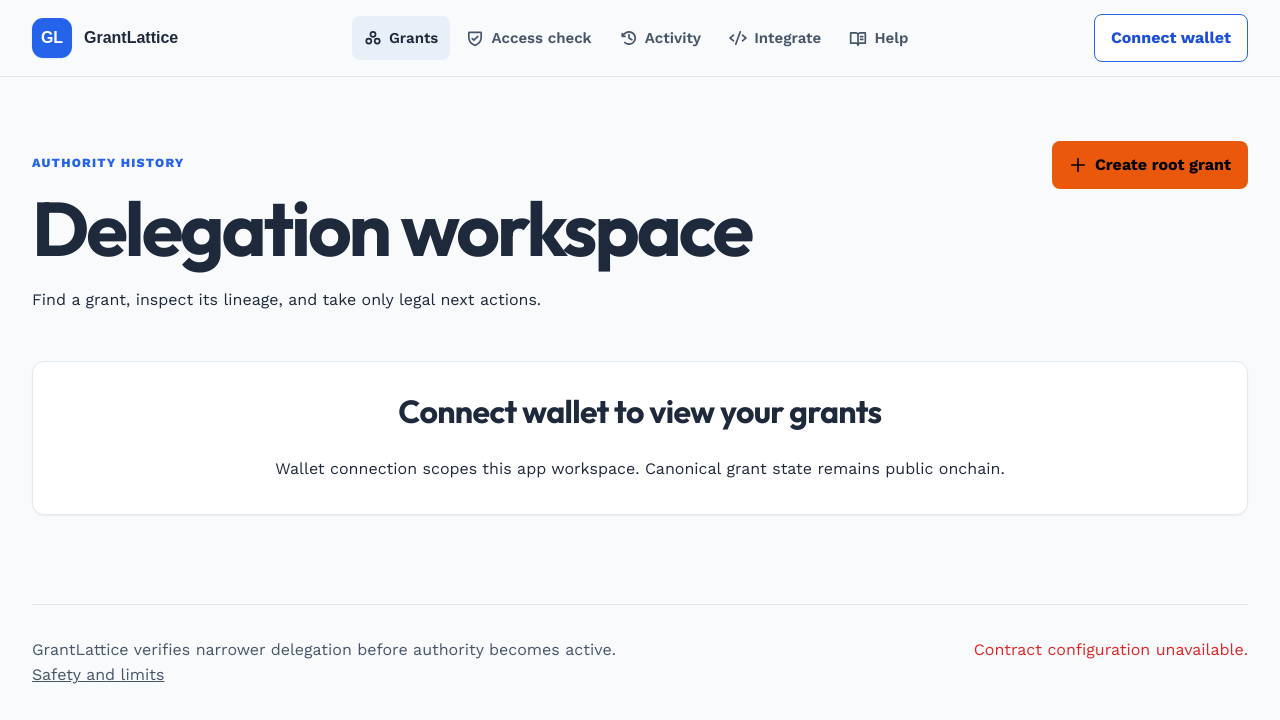
Test: product routes › moves from grant history into the root creation flow
Click the link "Create root grant".
click(1150, 165)  # box [1052,141,1248,189]
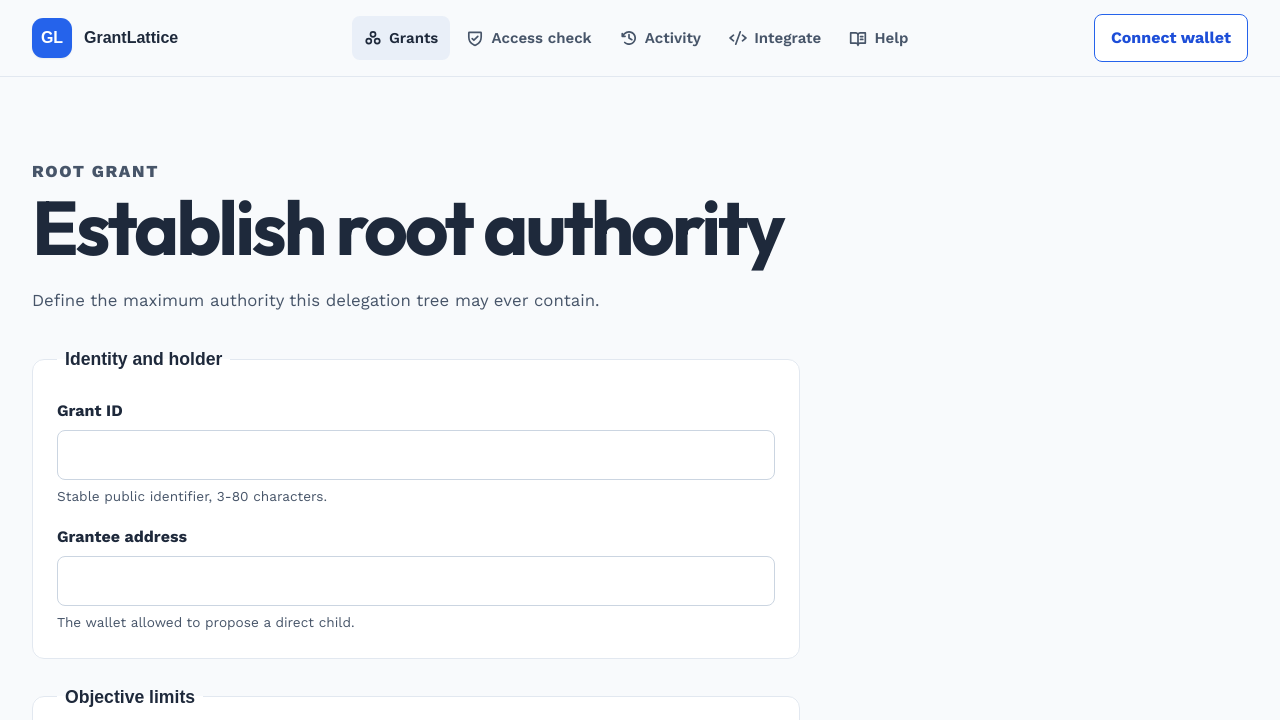
Expected: the heading "Establish root authority" is shown, [32,179,783,275]
